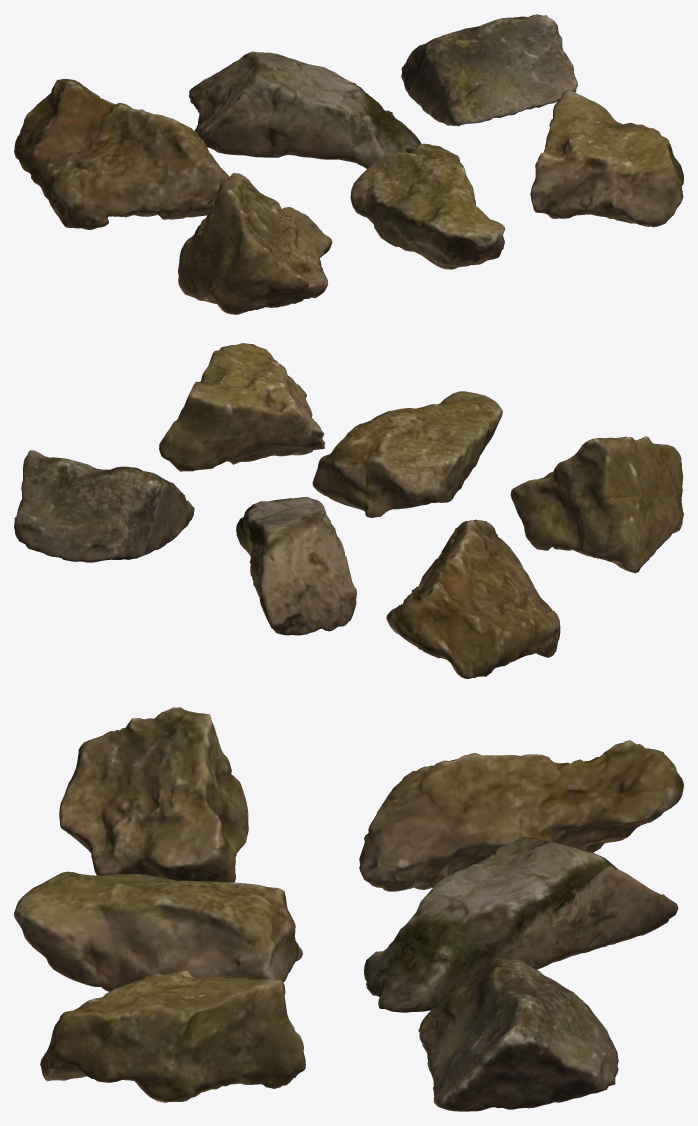
Rendered from rock_moss_set_01.glb.
The picture shows the model from 3 angles, top to bottom: view 1: azimuth 30°, elevation 25°; view 2: azimuth 150°, elevation 25°; view 3: azimuth 270°, elevation 25°; orthographic projection. The views are drawn at different scales.
Visible parts, largest first — view 1: rock_moss_set_01_rock01, rock_moss_set_01_rock02, rock_moss_set_01_rock06, rock_moss_set_01_rock04, rock_moss_set_01_rock03, rock_moss_set_01_rock05; view 2: rock_moss_set_01_rock04, rock_moss_set_01_rock01, rock_moss_set_01_rock05, rock_moss_set_01_rock03, rock_moss_set_01_rock06, rock_moss_set_01_rock02; view 3: rock_moss_set_01_rock01, rock_moss_set_01_rock02, rock_moss_set_01_rock05, rock_moss_set_01_rock06, rock_moss_set_01_rock04, rock_moss_set_01_rock03.
Boxes of the visible parts, x1,y1,x2,y2 form: rock_moss_set_01_rock01: (14, 79, 229, 229); rock_moss_set_01_rock02: (189, 51, 421, 168); rock_moss_set_01_rock06: (530, 89, 683, 227); rock_moss_set_01_rock04: (178, 173, 332, 314); rock_moss_set_01_rock03: (401, 14, 577, 126); rock_moss_set_01_rock05: (350, 143, 505, 269); rock_moss_set_01_rock04: (510, 436, 683, 573); rock_moss_set_01_rock01: (386, 519, 560, 678); rock_moss_set_01_rock05: (312, 391, 502, 517); rock_moss_set_01_rock03: (14, 450, 194, 562); rock_moss_set_01_rock06: (159, 343, 325, 471); rock_moss_set_01_rock02: (236, 497, 356, 635); rock_moss_set_01_rock01: (359, 740, 683, 891); rock_moss_set_01_rock02: (364, 836, 678, 1012); rock_moss_set_01_rock05: (14, 871, 302, 991); rock_moss_set_01_rock06: (40, 970, 305, 1102); rock_moss_set_01_rock04: (59, 707, 248, 882); rock_moss_set_01_rock03: (418, 956, 618, 1111).
Size of the model in its own units: 8 by 1.77 by 6.95.
1 material, 1 textured.
